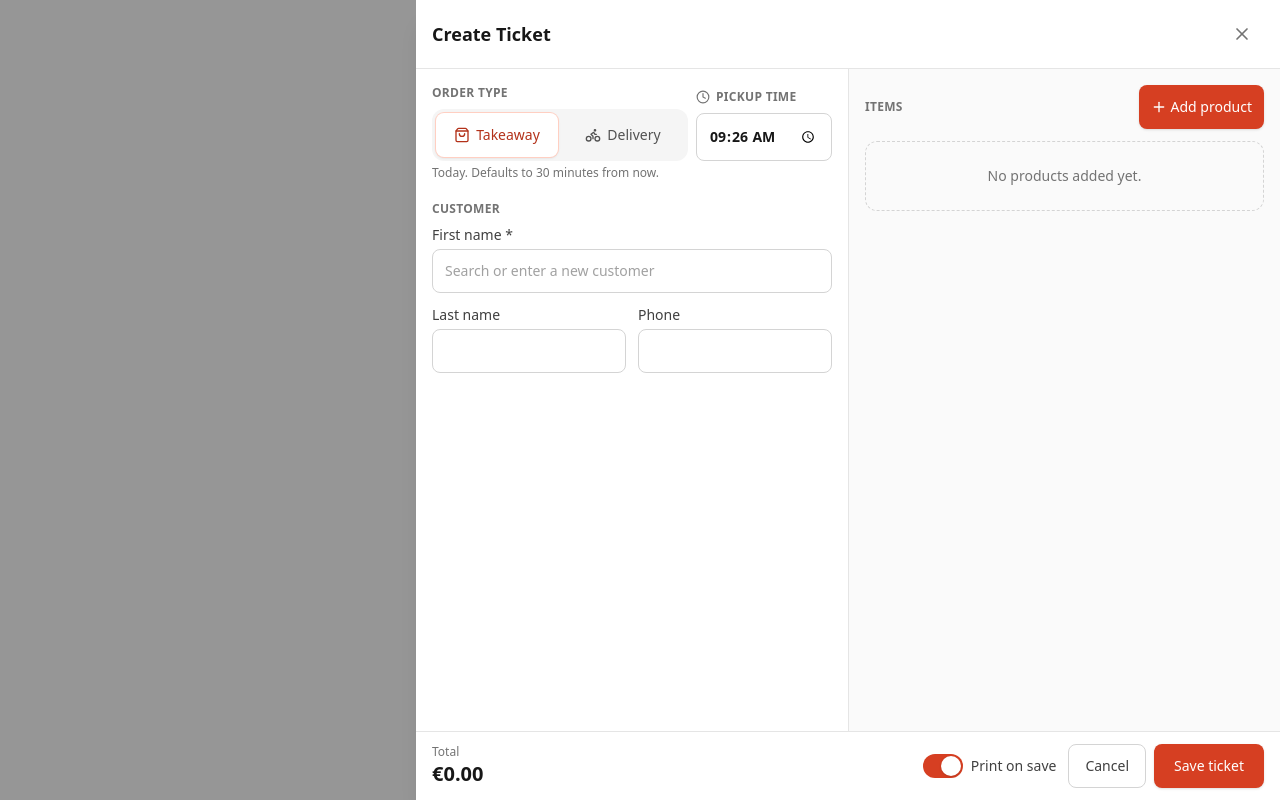
Test: TicketSidebar › loads the Company's customers and fills the form from a search result
Click the radio button labelled "Delivery" at (623, 134), box [585,125,661,144]
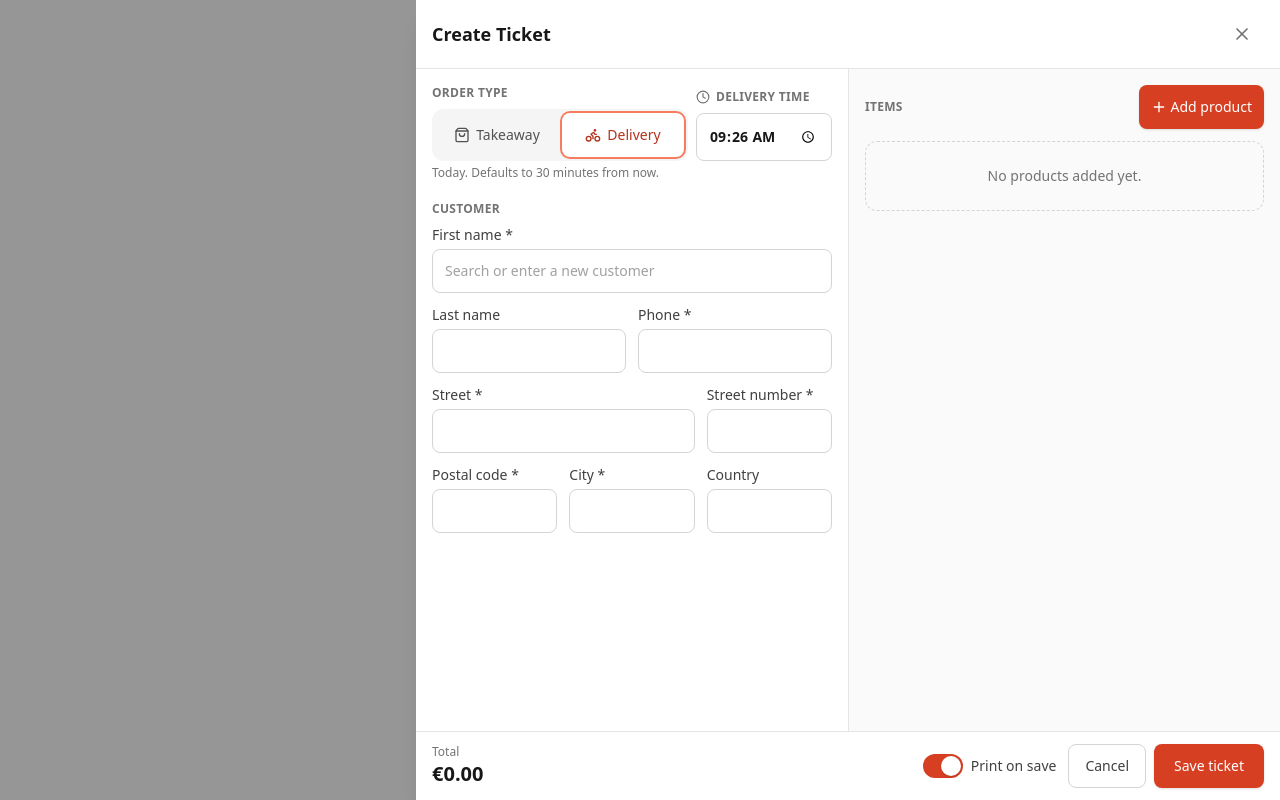
Type "mar" into the field labelled "First name *" at (632, 271), box [432,249,832,293]
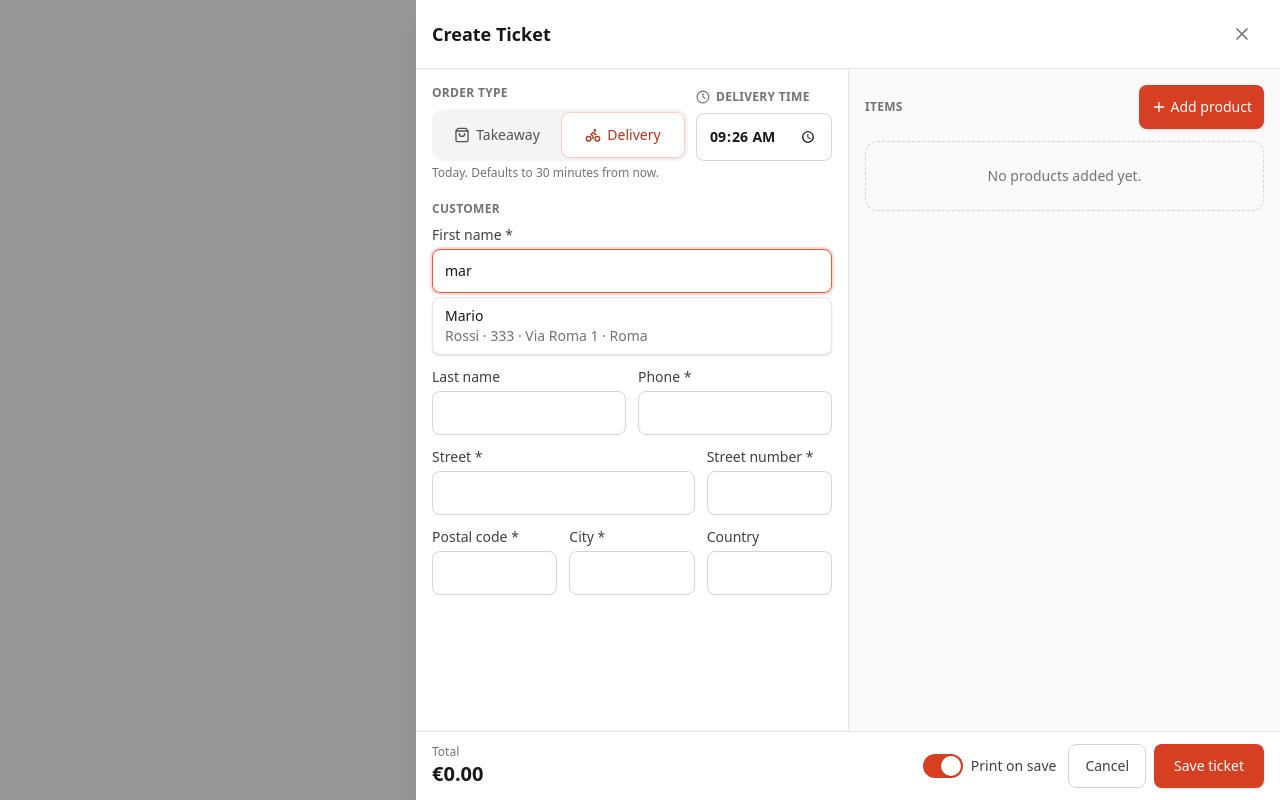
Click the button "Mario Rossi · 333 · Via Roma 1 · Roma" at (632, 326), box [433,298,831,354]
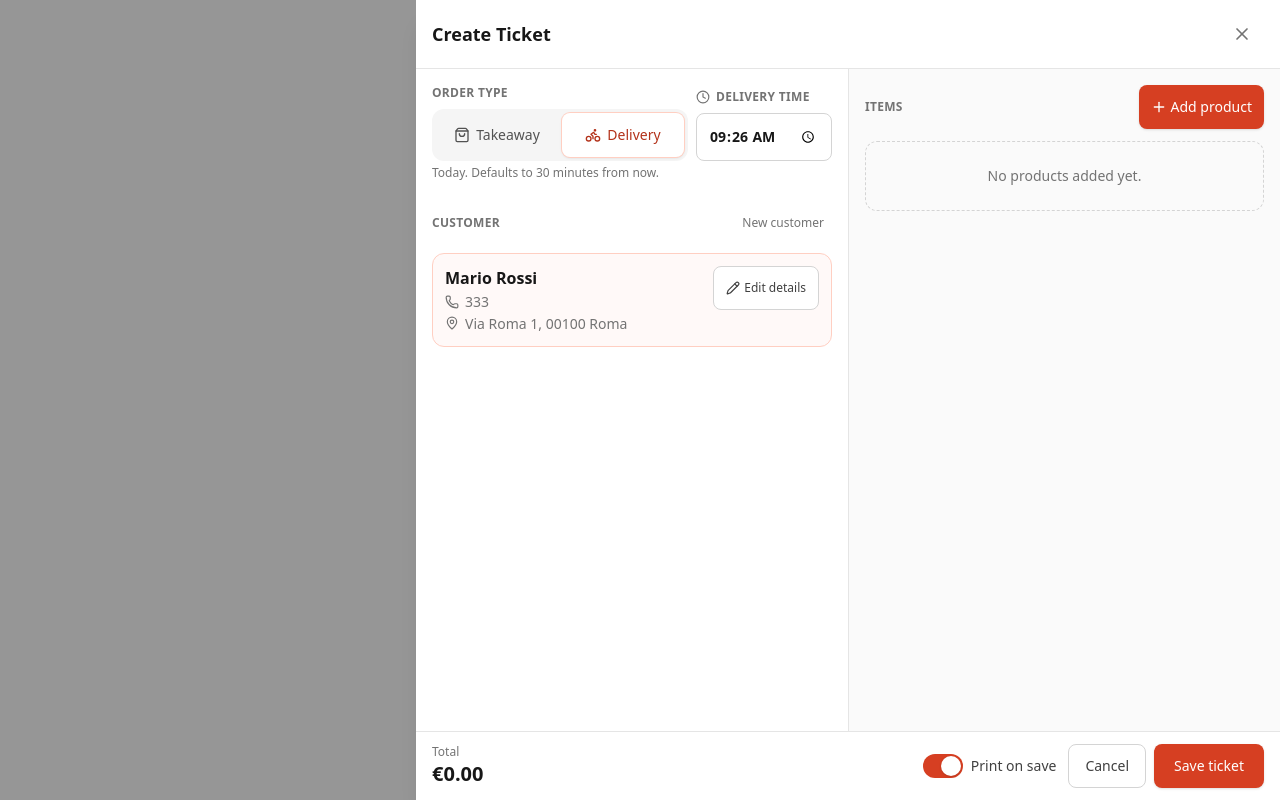
Expected: the text "Mario Rossi" is shown, [445,267,537,289]
Expected: the text "Via Roma 1, 00100 Roma" is shown, [445,314,628,334]
Expected: the label labelled "First name" is gone
Click the button "Edit details" at (766, 288), box [713,266,819,310]
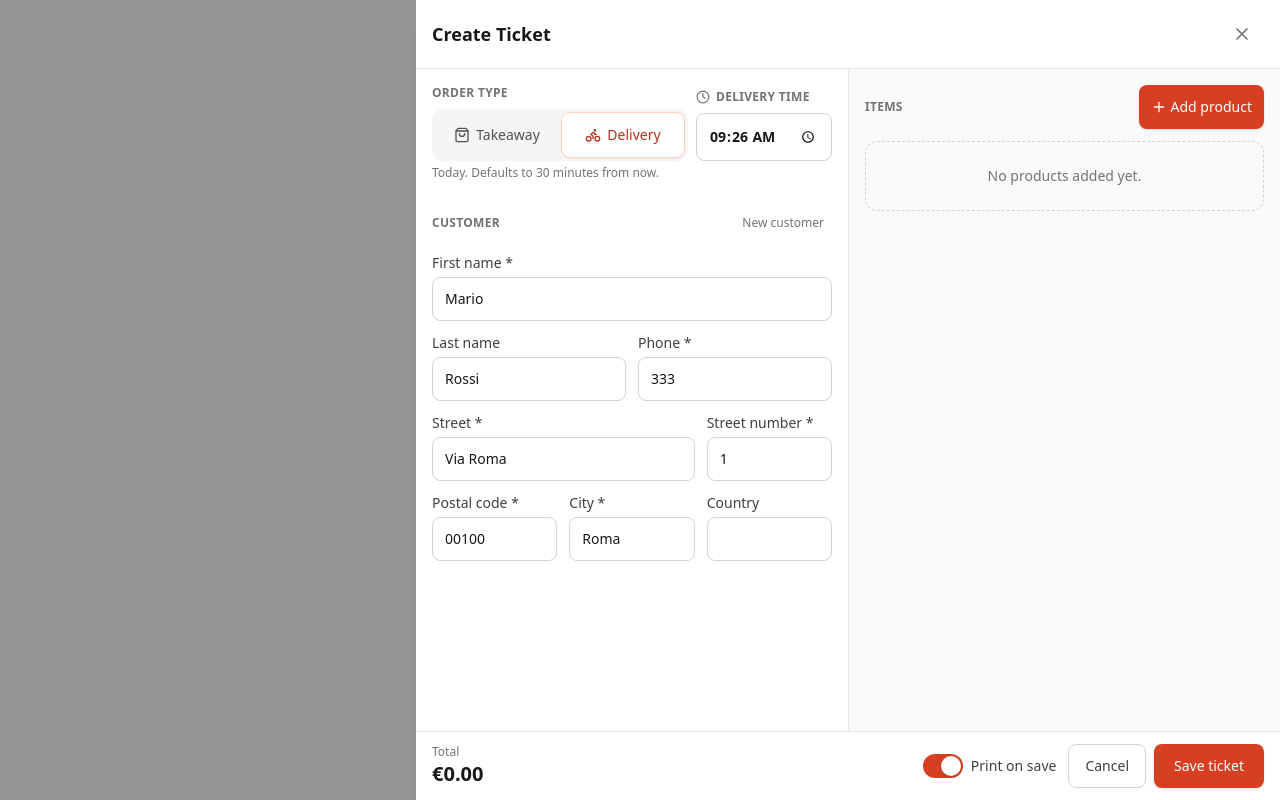
Expected: the field labelled "First name *" holds "Mario", [432,277,832,321]
Expected: the field labelled "Last name" holds "Rossi", [432,357,626,401]
Expected: the field labelled "Phone *" holds "333", [638,357,832,401]
